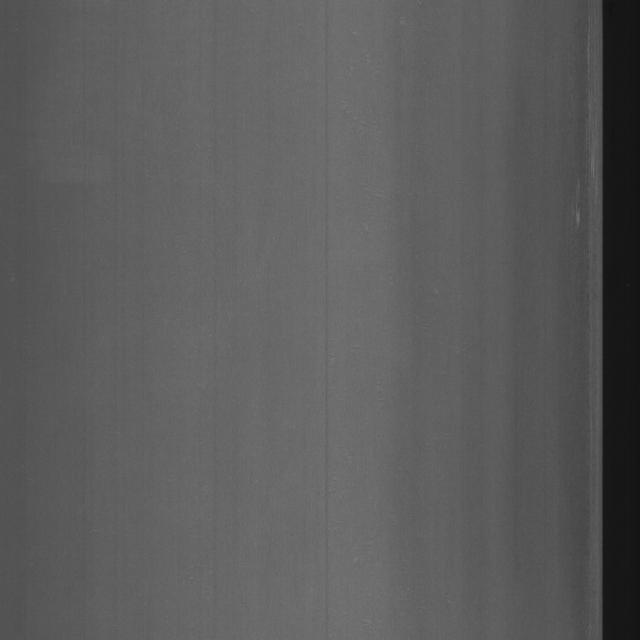inclusion: (563, 44, 598, 282)
